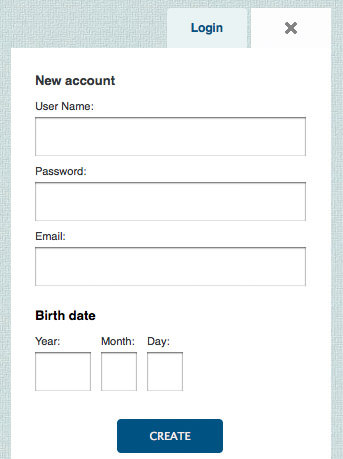_form_: (1, 43, 343, 459)
button: (116, 418, 223, 454)
field: (33, 115, 307, 157), (32, 246, 307, 287), (33, 181, 307, 222), (32, 351, 92, 392), (144, 351, 184, 392), (99, 350, 138, 392)
field_with_label: (30, 166, 309, 224), (30, 101, 308, 159), (30, 232, 309, 289), (30, 336, 93, 394), (98, 337, 140, 394), (143, 337, 185, 394)
